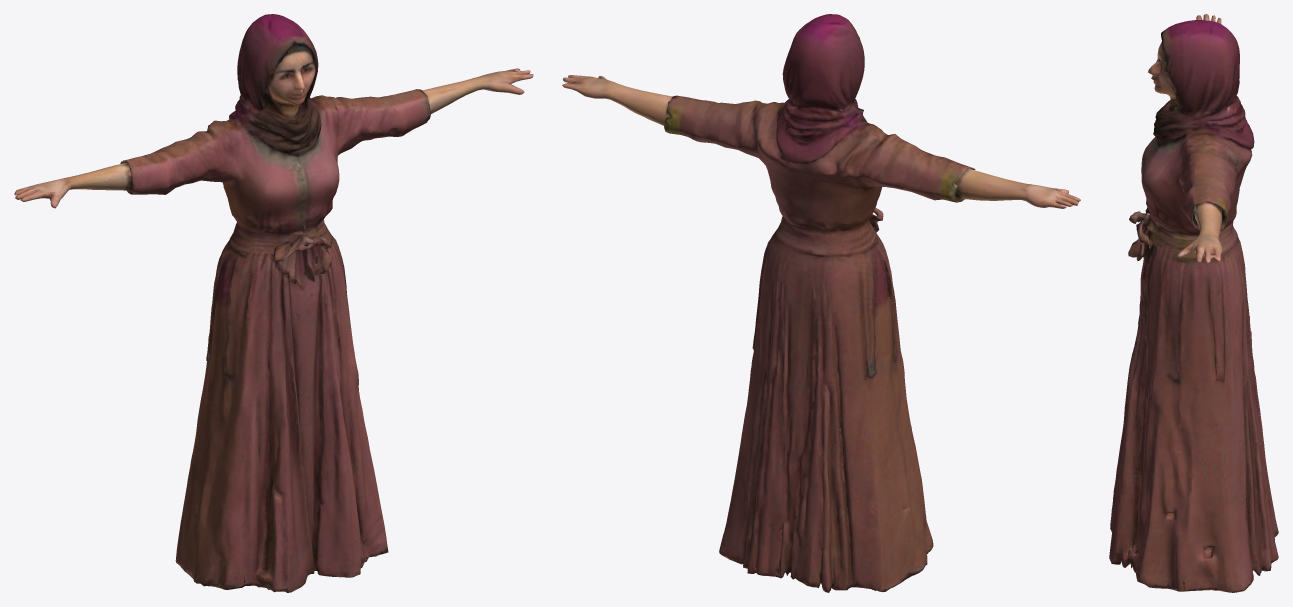
Rendered from v_koylukadin.glb.
3 renders of one model, left to right at view 1: azimuth 30°, elevation 25°; view 2: azimuth 150°, elevation 25°; view 3: azimuth 270°, elevation 25°, orthographic.
Visible parts, largest first — view 1: Object_4; view 2: Object_4; view 3: Object_4.
Boxes of the visible parts, left/top/right/bottom form: Object_4: left=14, top=14, right=533, bottom=592; Object_4: left=562, top=14, right=1080, bottom=592; Object_4: left=1109, top=14, right=1278, bottom=592.
Size of the model in its own units: 1.97 by 1.97 by 0.5715.
1 material, 1 textured.
